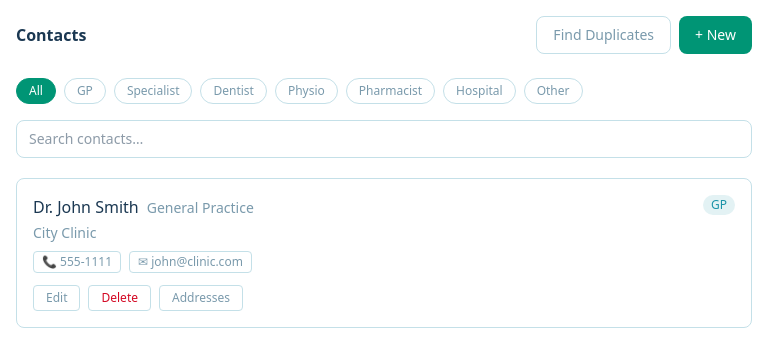
ContactsPage › shows no-duplicates message when scan finds none
This screenshot has width=769, height=345.
Click the button "Find Duplicates".
click(604, 35)  # box top-left (536, 16), bottom-right (671, 54)
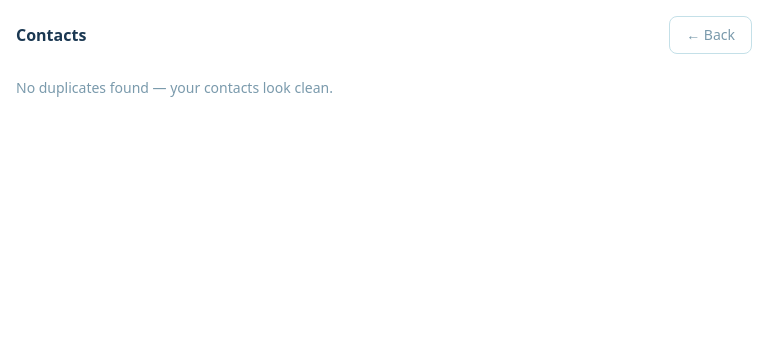
Check: the text "No duplicates found — your contacts look clean." is shown, box top-left (16, 78), bottom-right (333, 97)
